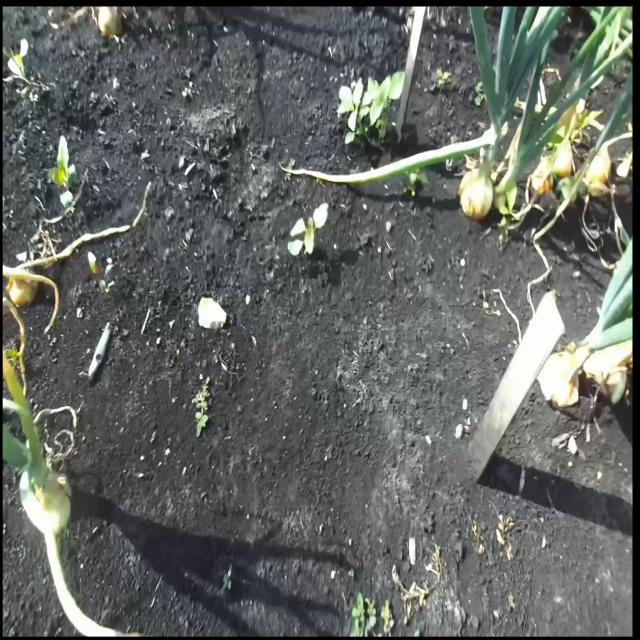onion: (458, 162, 494, 220), (6, 274, 39, 308), (97, 6, 122, 40)
